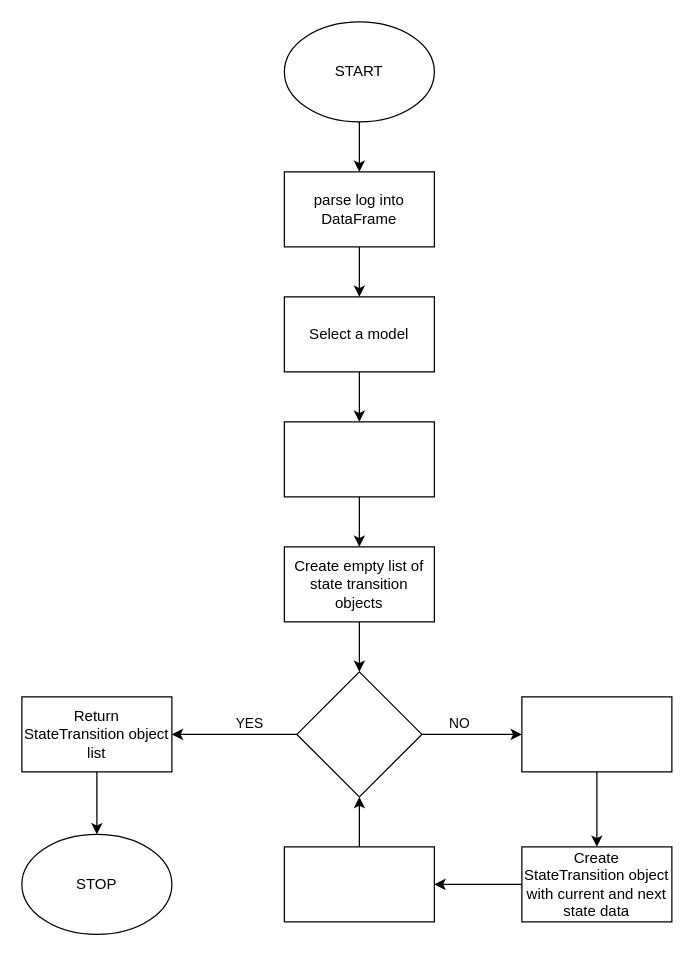
Image size: 694x956. Some labels were removed from this diagram. The shapes that lost their labels are listed below. From the top down, each one's centre as x and y in pixels, then its label:
point 358,459: Obtain ordered set of timestamps
point 359,734: Last time stamp?
point 596,734: Obtain logs of selected model at current and next timestamp
point 358,884: Add object to the list, Select next time stamp
